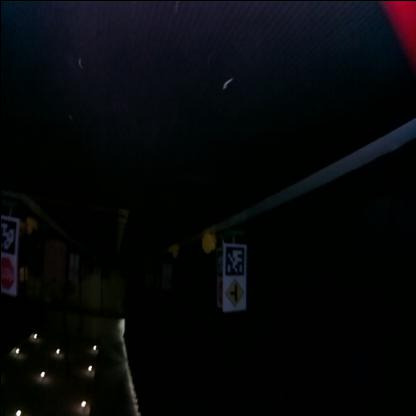Duckie: (200, 233, 214, 254), (24, 218, 35, 234)
Intersection sign: (222, 279, 244, 310)
QR code: (224, 246, 246, 276), (0, 218, 16, 256)
Stop sign: (0, 257, 14, 292)
